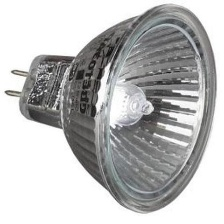light_bulb: (0, 3, 213, 215)
